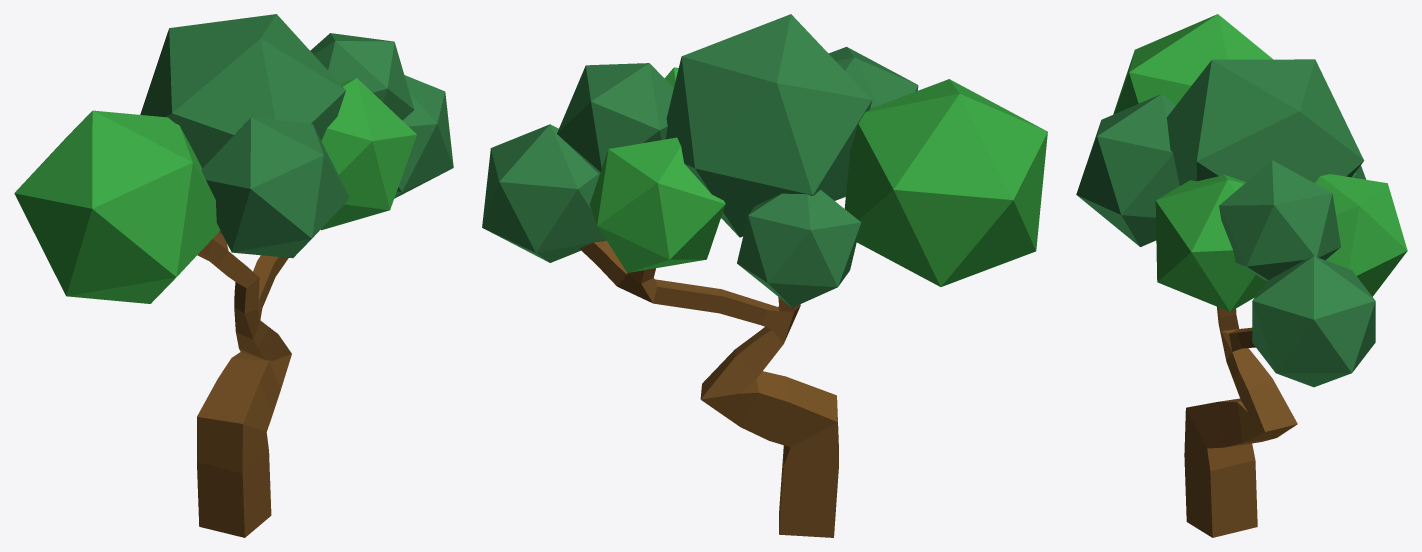
The model's file is Tree2.fbx.
3 renders of one model, left to right at view 1: azimuth 30°, elevation 25°; view 2: azimuth 150°, elevation 25°; view 3: azimuth 270°, elevation 25°, orthographic. The views are drawn at different scales.
Parts seen in each view (by area): view 1: Tree2; view 2: Tree2; view 3: Tree2.
Boxes of the visible parts, x1,y1,x2,y2 form: Tree2: (14,14,453,537); Tree2: (482,14,1047,537); Tree2: (1076,14,1407,537).
Bounding box in the file's own units: 732 × 724 × 457.
